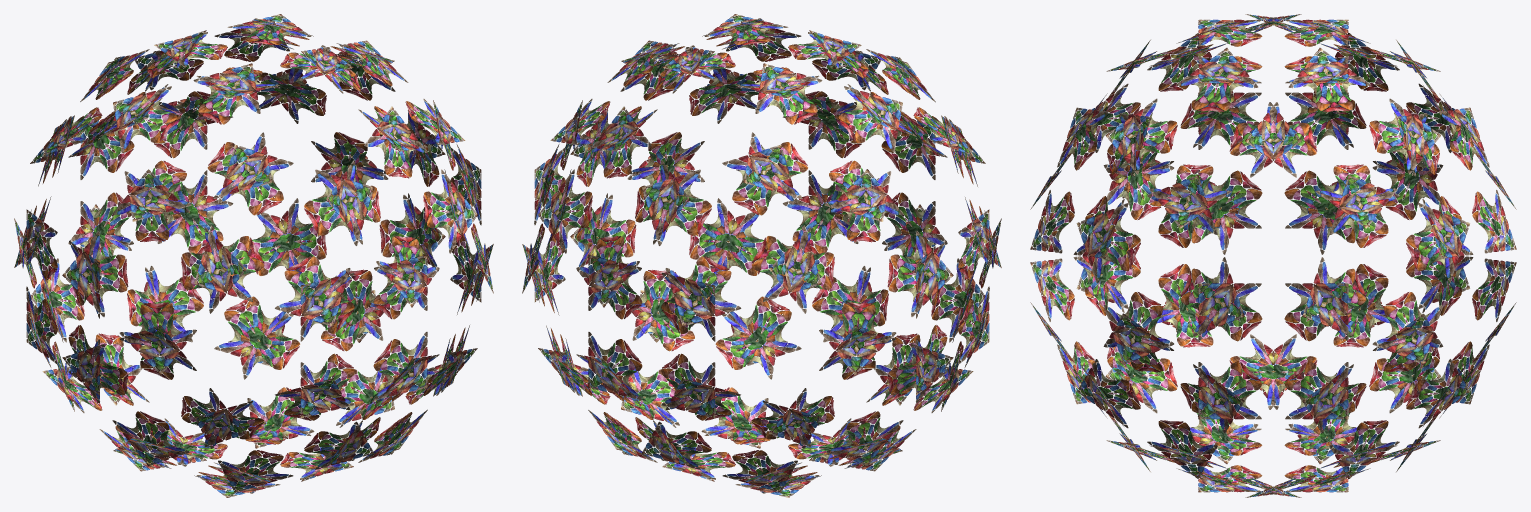
The model's file is 3TruncatedDodecadodecahedron.gltf.
The picture shows the model from 3 angles, left to right: view 1: azimuth 30°, elevation 25°; view 2: azimuth 150°, elevation 25°; view 3: azimuth 270°, elevation 25°; orthographic projection. The views are drawn at different scales.
Visible parts, largest first — view 1: 1TruncatedDodecadodecahedron; view 2: 1TruncatedDodecadodecahedron; view 3: 1TruncatedDodecadodecahedron.
Boxes of the visible parts, box(x1,y1,x2,y2) form: 1TruncatedDodecadodecahedron: box(14, 14, 493, 497); 1TruncatedDodecadodecahedron: box(522, 14, 1001, 497); 1TruncatedDodecadodecahedron: box(1030, 14, 1516, 497).
Bounding box in the file's own units: 3.24 × 3.24 × 3.24.
Materials: 1 (1 with a texture image).
